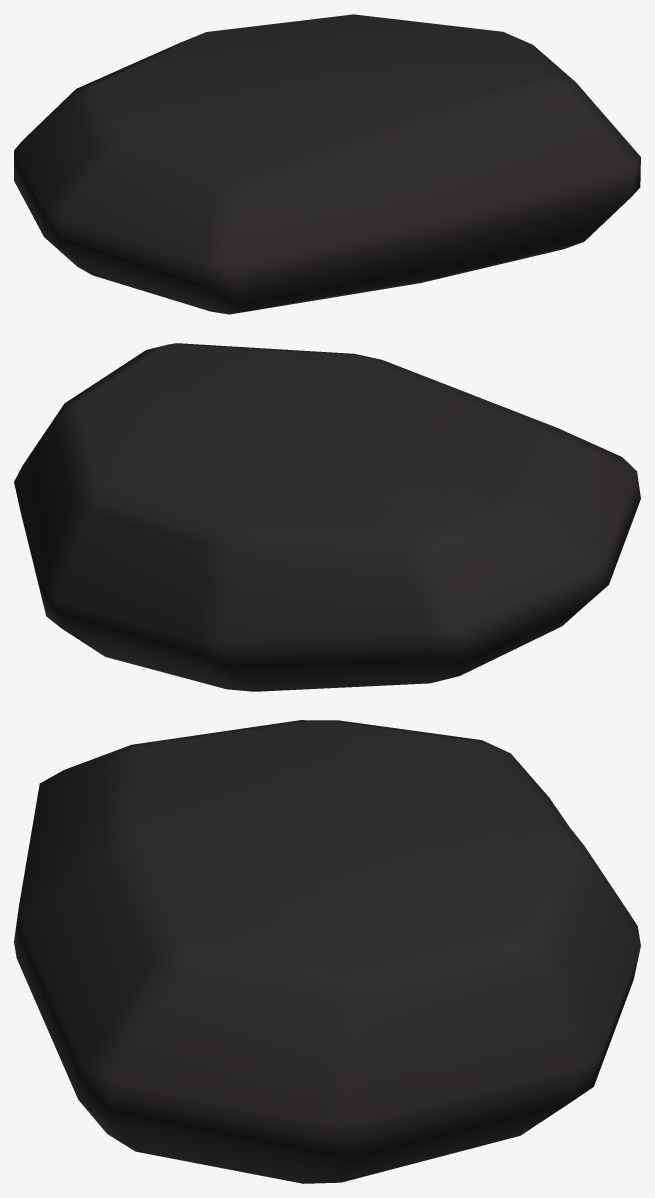
The model's file is StoneSmall_002.glb.
3 views of the same model, one above another, from view 1: azimuth 30°, elevation 25°; view 2: azimuth 150°, elevation 25°; view 3: azimuth 270°, elevation 25° (orthographic). The views are drawn at different scales.
Visible parts, largest first — view 1: StoneSmall_002; view 2: StoneSmall_002; view 3: StoneSmall_002.
Boxes of the visible parts, x1,y1,x2,y2 form: StoneSmall_002: (14,14,640,314); StoneSmall_002: (14,343,640,691); StoneSmall_002: (14,720,640,1183).
Bounding box in the file's own units: 2.28 × 0.7955 × 1.78.
1 material, 1 textured.
